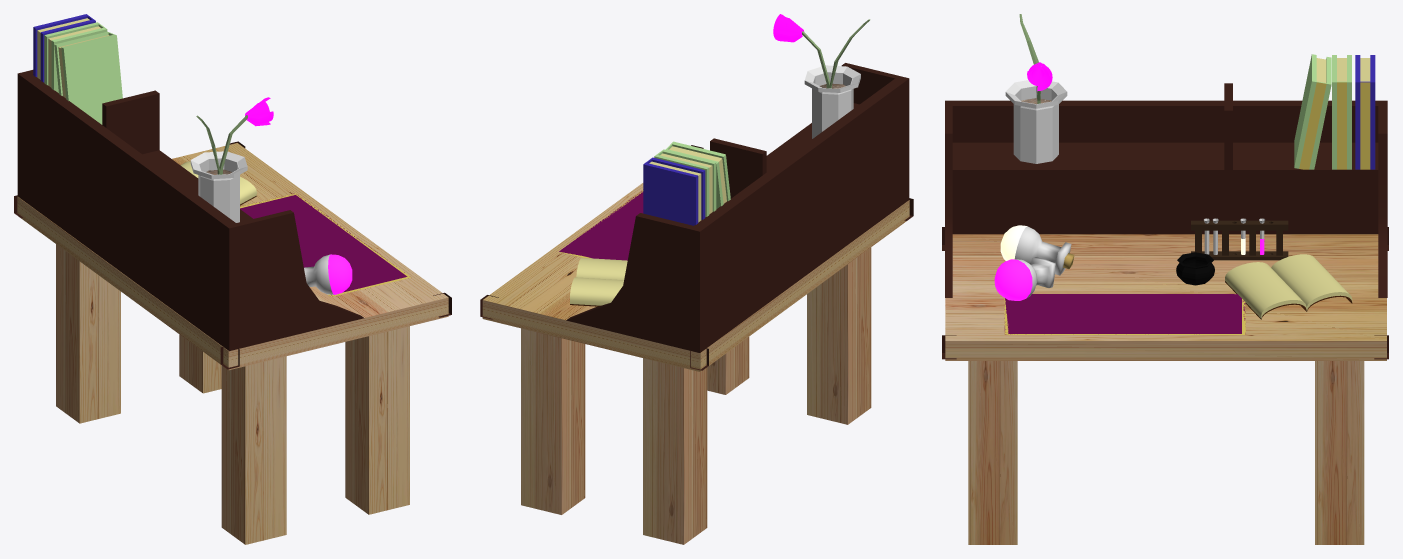
Rendered from 実験台ver.3.fbx.
3 views of the same model, side by side, from view 1: azimuth 30°, elevation 25°; view 2: azimuth 150°, elevation 25°; view 3: azimuth 270°, elevation 25° (orthographic). The views are drawn at different scales.
Parts seen in each view (by area): view 1: 机, 壁, 本２, 布, 花瓶, 瓶, 花; view 2: 机, 壁, 本２, 布, 花瓶, 本, 花; view 3: 机, 壁, 布, 本２, 本, 花瓶, 薬台, 瓶, 瓶２, 容器, 花, 試験管.
Part boxes in pixels (x1,y1,x2,y2): 机: (17, 143, 448, 544); 壁: (17, 70, 364, 351); 本２: (33, 14, 122, 124); 布: (240, 193, 411, 296); 花瓶: (190, 151, 247, 222); 瓶: (304, 254, 352, 294); 花: (196, 97, 273, 174); 机: (482, 183, 909, 544); 壁: (566, 63, 909, 352); 本２: (643, 141, 730, 225); 布: (559, 190, 643, 260); 花瓶: (804, 65, 860, 138); 本: (570, 257, 627, 306); 花: (773, 14, 870, 88); 机: (945, 234, 1386, 544); 壁: (945, 83, 1387, 297); 布: (1004, 294, 1245, 334); 本２: (1294, 54, 1375, 169); 本: (1225, 254, 1352, 319); 花瓶: (1005, 80, 1067, 163); 薬台: (1191, 220, 1288, 260); 瓶: (994, 257, 1055, 300); 瓶２: (1000, 225, 1074, 275); 容器: (1176, 252, 1214, 285); 花: (1019, 14, 1052, 103); 試験管: (1204, 218, 1264, 254).
Bounding box in the file's own units: 556 × 988 × 919.
